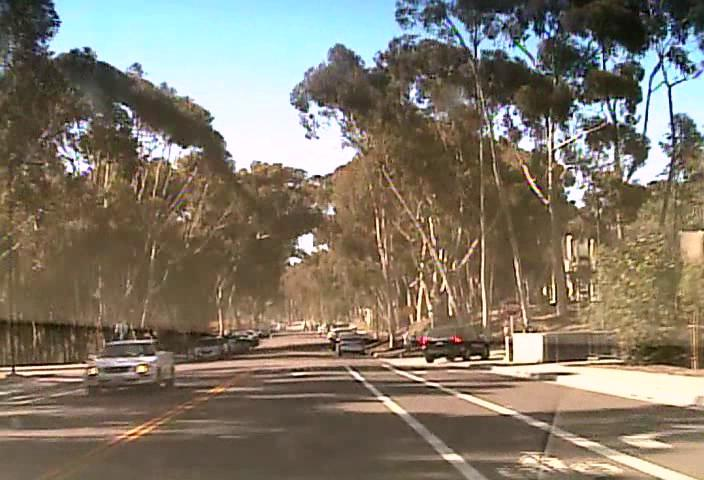stop: (502, 298, 521, 317)
